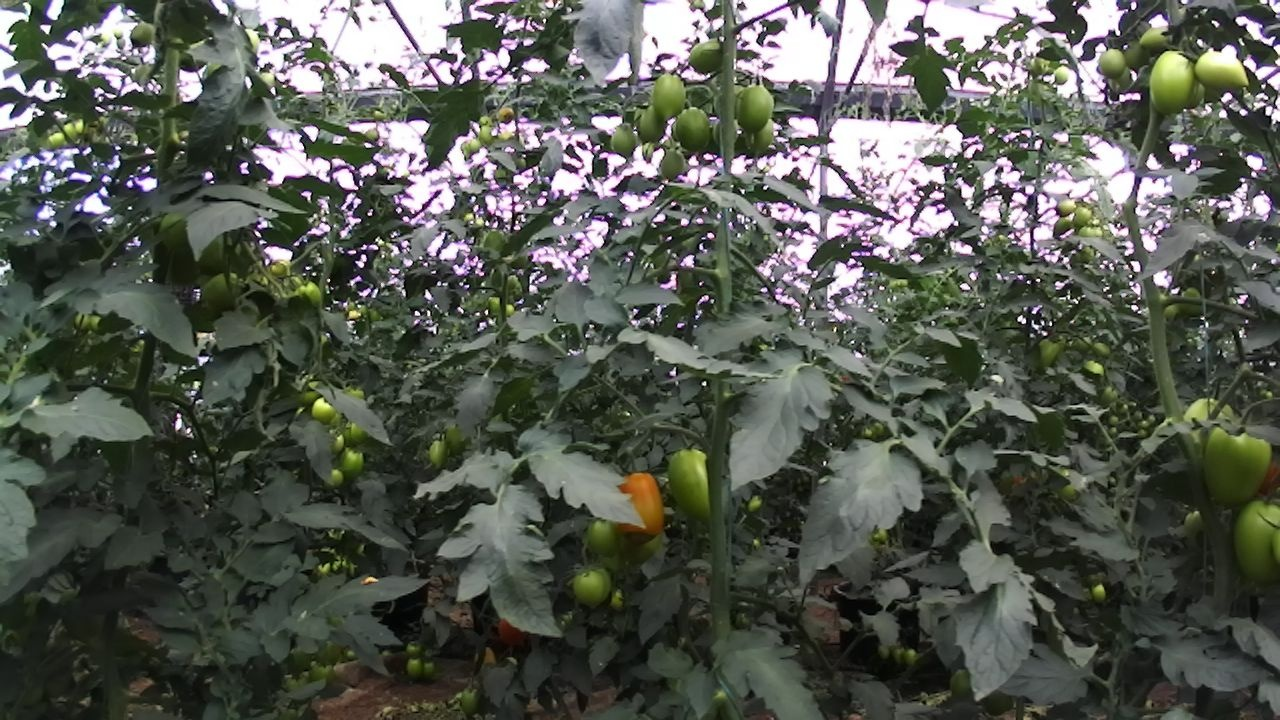tomato: (1187, 409, 1280, 518), (654, 438, 739, 529), (607, 462, 676, 554), (1221, 486, 1280, 589), (1139, 41, 1209, 125), (1190, 35, 1262, 105), (666, 100, 719, 162), (569, 559, 623, 614), (677, 31, 740, 77), (645, 68, 696, 124), (196, 266, 253, 314), (731, 78, 778, 136), (626, 94, 673, 150), (579, 512, 620, 567), (1129, 17, 1185, 55), (741, 112, 781, 159), (604, 119, 645, 161), (1094, 42, 1130, 84), (304, 388, 342, 427), (943, 664, 980, 702), (293, 277, 332, 313), (124, 18, 160, 56), (1032, 330, 1064, 371), (339, 443, 368, 488), (657, 145, 690, 183), (454, 684, 486, 720), (341, 417, 374, 448), (426, 435, 452, 470), (1179, 506, 1209, 536), (1045, 213, 1076, 242), (1048, 59, 1077, 89), (1053, 193, 1081, 218), (1086, 577, 1110, 606), (41, 127, 69, 150), (402, 655, 425, 681), (493, 104, 519, 126), (1082, 357, 1106, 380), (1070, 202, 1093, 226), (900, 646, 922, 666), (419, 659, 438, 682), (405, 639, 425, 658), (891, 645, 907, 664)
